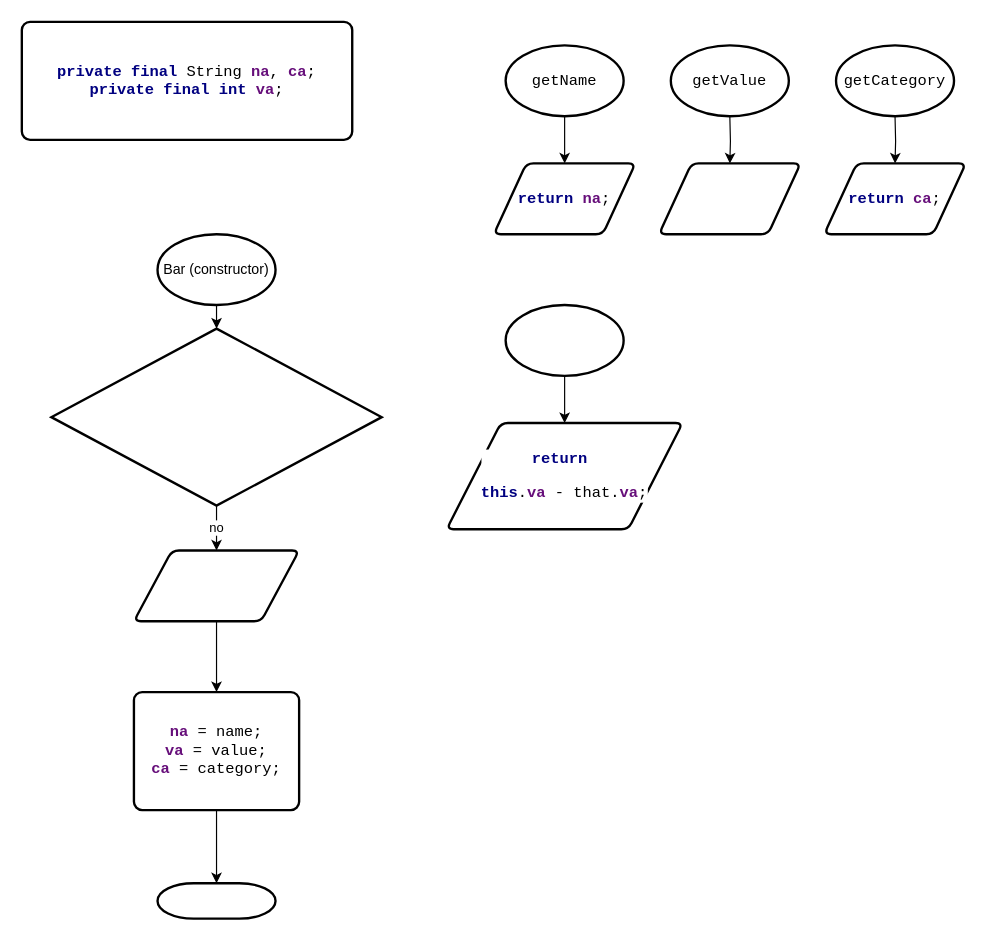
Some shapes in this 986 by 939 pixel diagram are drawn without their labels. The box of each missing label's shape, as (x1, y1, x2, y2) in pixels:
compareTo: (504, 303, 624, 376)
end: (156, 881, 276, 919)
name== null || value < 0 || category== null: (50, 327, 382, 506)
return va ;: (657, 162, 801, 235)
String name int value String category: (132, 549, 300, 622)
